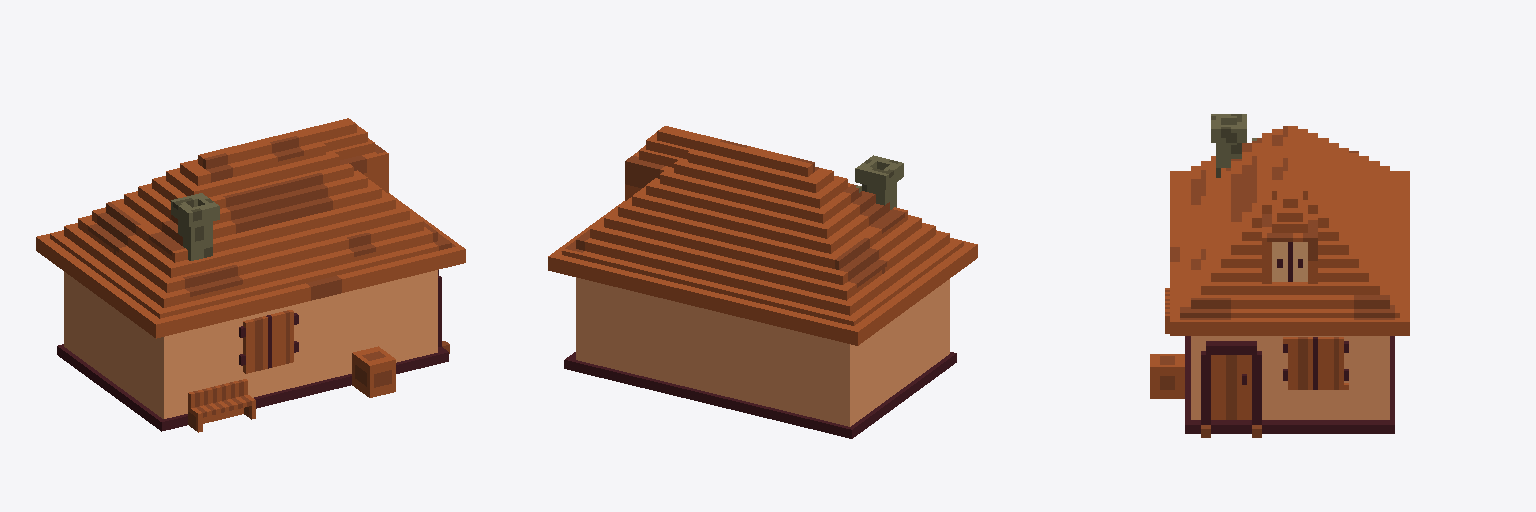
3 renders of one model, left to right at view 1: azimuth 30°, elevation 25°; view 2: azimuth 150°, elevation 25°; view 3: azimuth 270°, elevation 25°, orthographic.
Visible parts, largest first — view 1: object 1; view 2: object 1; view 3: object 1.
Boxes of the visible parts, box(x1,y1,x2,y2) form: object 1: box(36, 118, 465, 432); object 1: box(548, 126, 977, 438); object 1: box(1150, 114, 1409, 437).
Size of the model in its own units: 7 by 4.6 by 5.1.
1 materials, 1 textured.